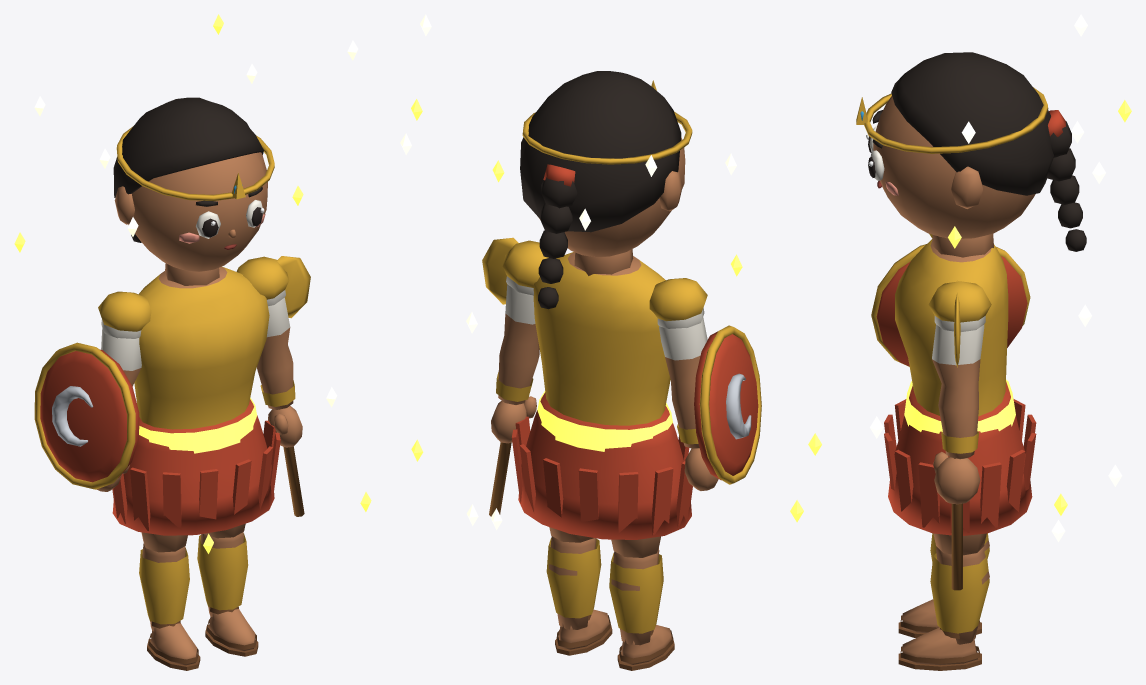
File: hippolyte.glb
3 views of the same model, side by side, from view 1: azimuth 30°, elevation 25°; view 2: azimuth 150°, elevation 25°; view 3: azimuth 270°, elevation 25° (orthographic). The views are drawn at different scales.
Visible parts, largest first — view 1: rumpf, huefte, itemL, kopf, haare, armR, knieL, knieR, armL, itemR, kopfschmuck, beinL (+1 smaller); view 2: haare, rumpf, huefte, itemL, armL, armR, knieL, knieR, kopf, itemR, kopfschmuck, beinL (+2 smaller); view 3: haare, huefte, rumpf, kopf, armR, knieR, itemL, kopfschmuck, itemR, knieL, vfx_glitzer_1, vfx_glitzer_0 (+2 smaller).
Boxes of the visible parts, x1=… form: rumpf: x1=134, y1=266, x2=269, y2=453; huefte: x1=112, y1=399, x2=280, y2=535; itemL: x1=34, y1=342, x2=139, y2=489; kopf: x1=114, y1=152, x2=267, y2=285; haare: x1=113, y1=97, x2=263, y2=242; armR: x1=236, y1=256, x2=302, y2=447; knieL: x1=139, y1=543, x2=200, y2=670; knieR: x1=197, y1=532, x2=258, y2=656; armL: x1=97, y1=291, x2=151, y2=491; itemR: x1=240, y1=256, x2=310, y2=516; kopfschmuck: x1=116, y1=126, x2=274, y2=201; beinL: x1=141, y1=532, x2=187, y2=552; haare: x1=520, y1=71, x2=681, y2=309; rumpf: x1=533, y1=252, x2=673, y2=451; huefte: x1=511, y1=392, x2=692, y2=539; itemL: x1=694, y1=325, x2=761, y2=484; armL: x1=649, y1=278, x2=718, y2=490; armR: x1=491, y1=240, x2=548, y2=443; knieL: x1=609, y1=547, x2=674, y2=670; knieR: x1=546, y1=536, x2=612, y2=655; kopf: x1=538, y1=137, x2=685, y2=275; itemR: x1=482, y1=237, x2=518, y2=516; kopfschmuck: x1=522, y1=80, x2=692, y2=164; beinL: x1=611, y1=536, x2=660, y2=557; haare: x1=891, y1=52, x2=1086, y2=251; huefte: x1=884, y1=381, x2=1036, y2=535; rumpf: x1=895, y1=239, x2=1015, y2=433; kopf: x1=873, y1=96, x2=1035, y2=257; armR: x1=928, y1=281, x2=991, y2=504; knieR: x1=898, y1=547, x2=989, y2=670; itemL: x1=871, y1=244, x2=1030, y2=366; kopfschmuck: x1=856, y1=87, x2=1048, y2=153; itemR: x1=951, y1=280, x2=962, y2=590; knieL: x1=898, y1=533, x2=989, y2=637; vfx_glitzer_1: x1=808, y1=121, x2=1105, y2=515; vfx_glitzer_0: x1=790, y1=14, x2=1122, y2=522.
Bounding box in the file's own units: 1.44 × 2.39 × 1.21.
